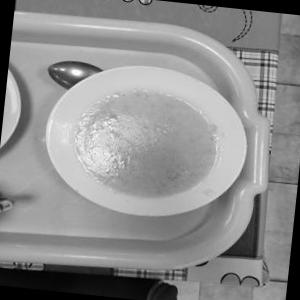porridge: (60, 65, 228, 212)
